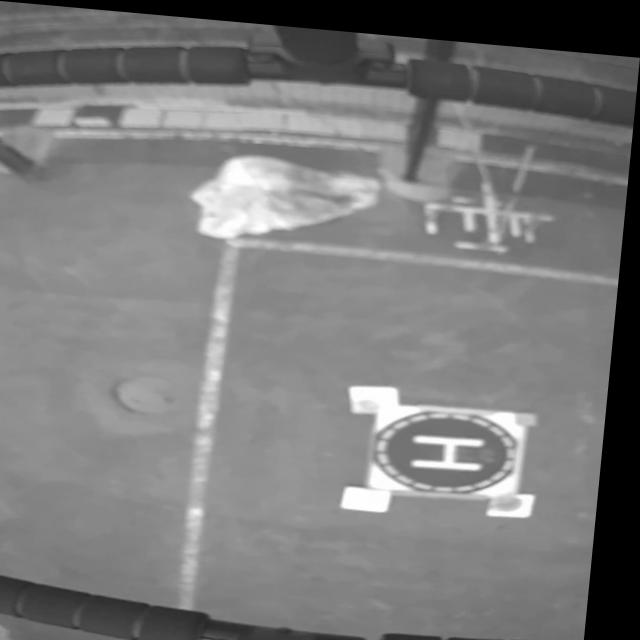Helipad: (420, 424, 493, 461)
